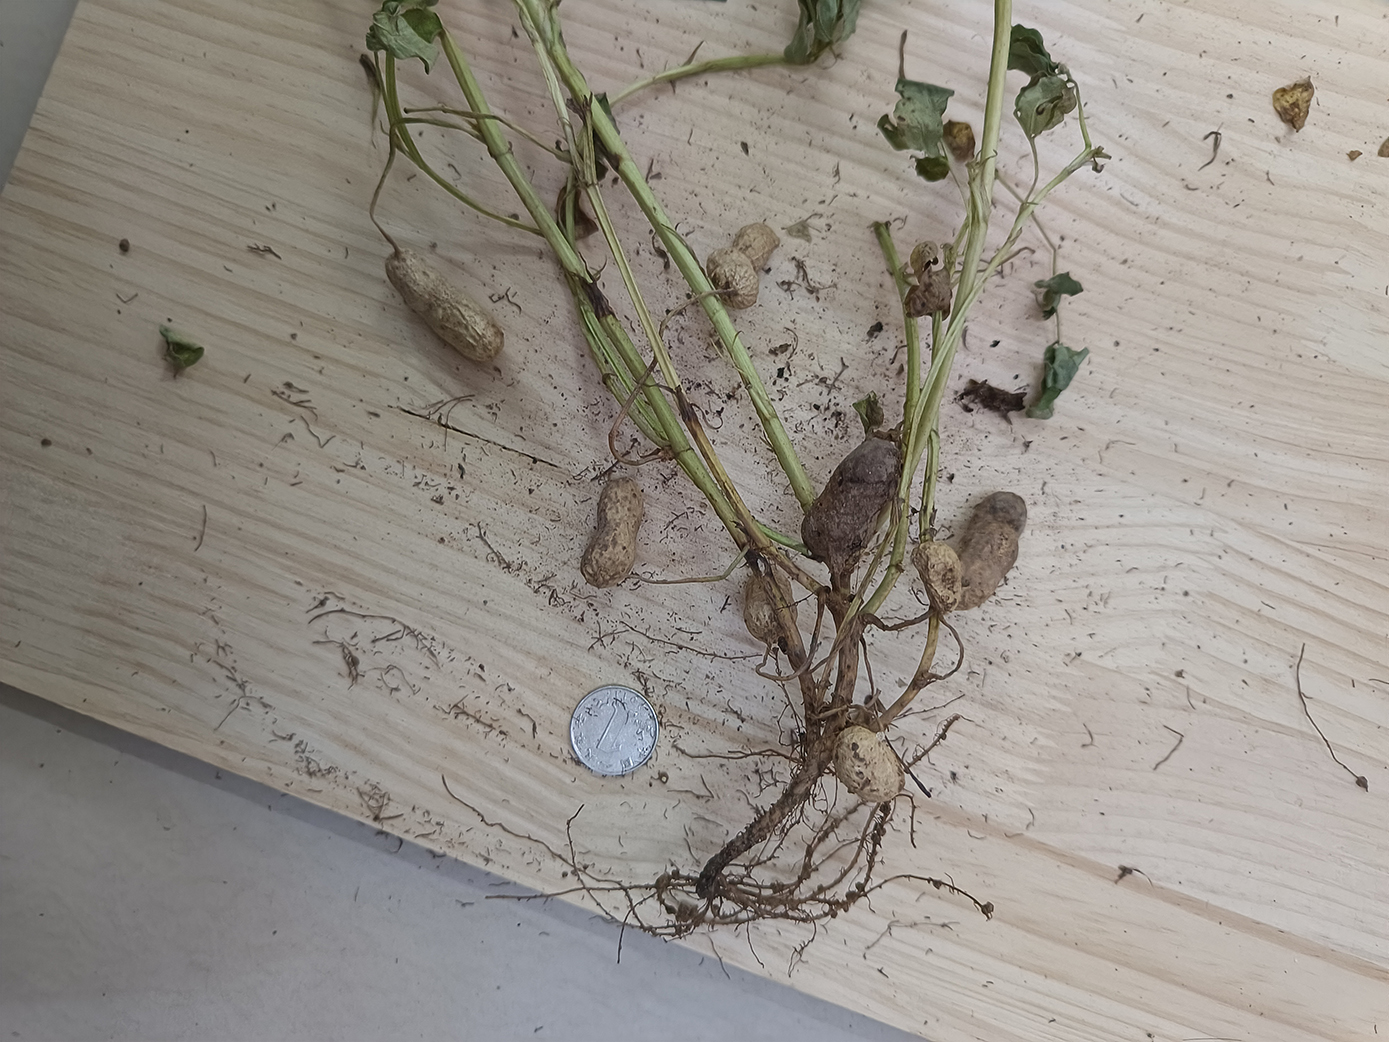h: (383, 248, 503, 361), (580, 479, 649, 587), (707, 222, 780, 309), (835, 726, 905, 802), (742, 570, 797, 642), (912, 542, 963, 618)
l: (800, 431, 905, 561), (965, 491, 1026, 614)
